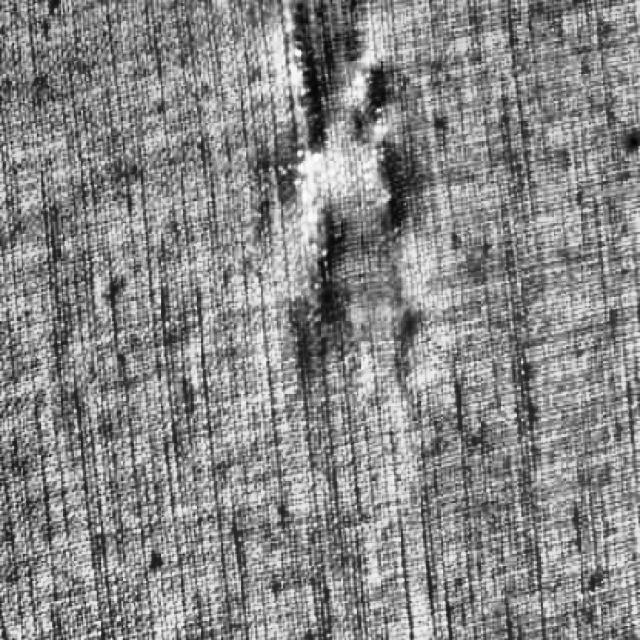thread_error: (272, 0, 343, 405), (344, 31, 403, 406)
